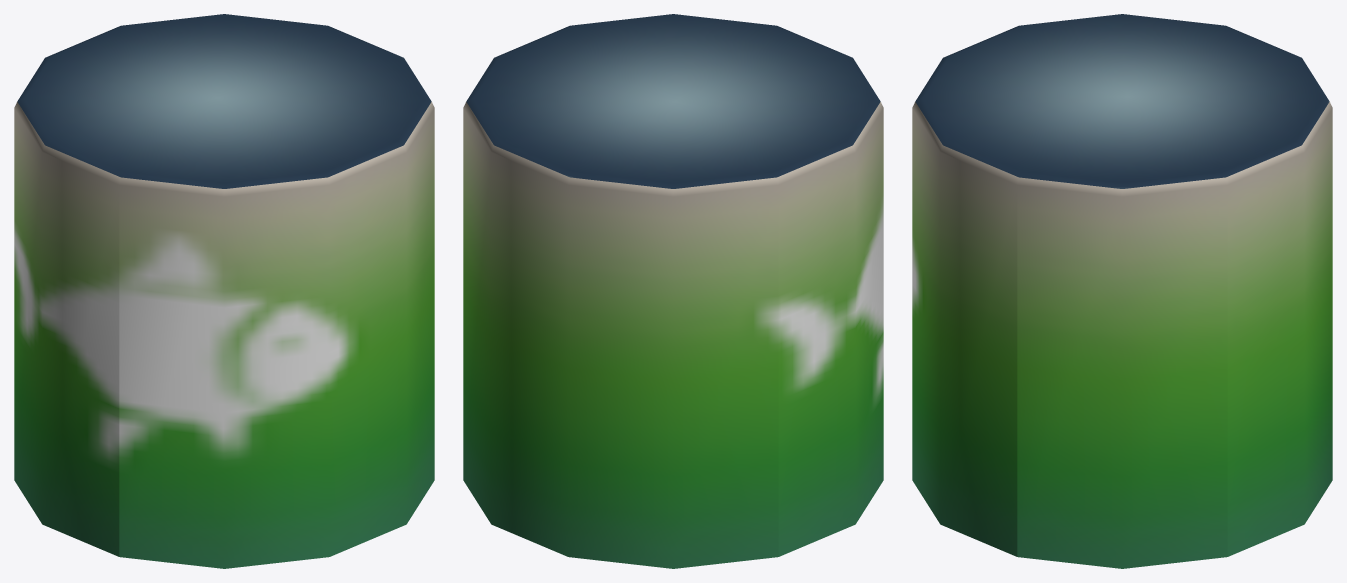
Rendered from Aquarium_food.fbx.
3 renders of one model, left to right at view 1: azimuth 30°, elevation 25°; view 2: azimuth 150°, elevation 25°; view 3: azimuth 270°, elevation 25°, orthographic.
Visible parts, largest first — view 1: Food; view 2: Food; view 3: Food.
Boxes of the visible parts, x1,y1,x2,y2 form: Food: (14,14,434,568); Food: (463,14,883,568); Food: (912,14,1332,568).
Bounding box in the file's own units: 1.47 × 1.47 × 1.47.
Materials: 1 (1 with a texture image).
